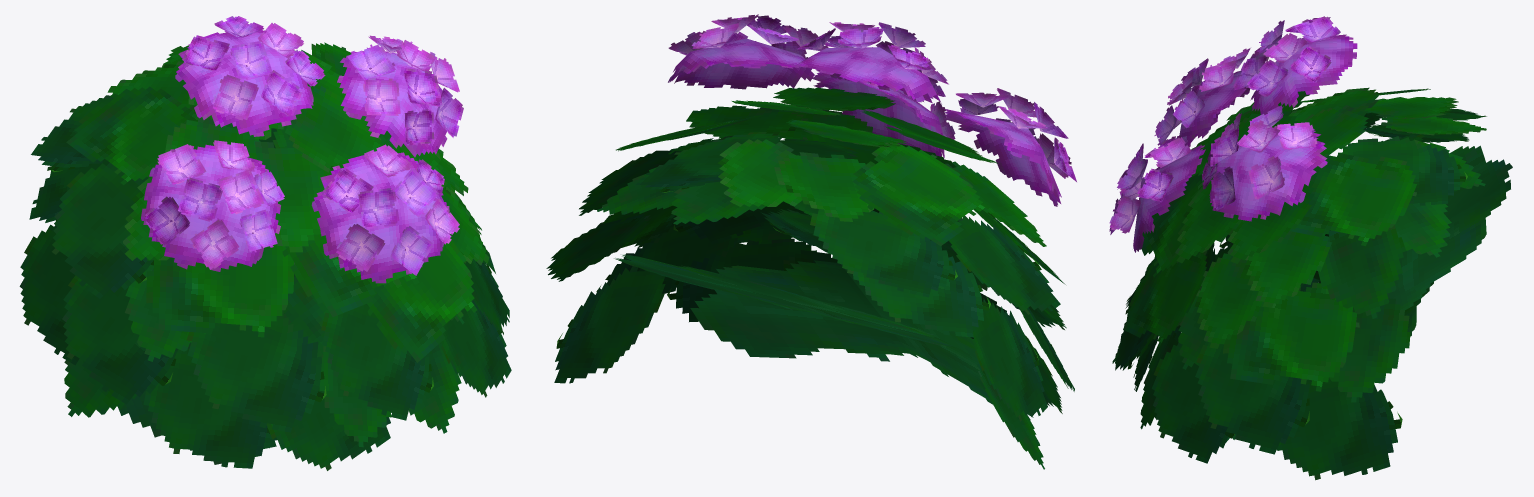
The model's file is pink-hydrangea.glb.
The picture shows the model from 3 angles, left to right: view 1: azimuth 30°, elevation 25°; view 2: azimuth 150°, elevation 25°; view 3: azimuth 270°, elevation 25°; orthographic projection. The views are drawn at different scales.
Bounding box in the file's own units: 11.09 × 9.41 × 9.52.
2 materials, 2 textured.
